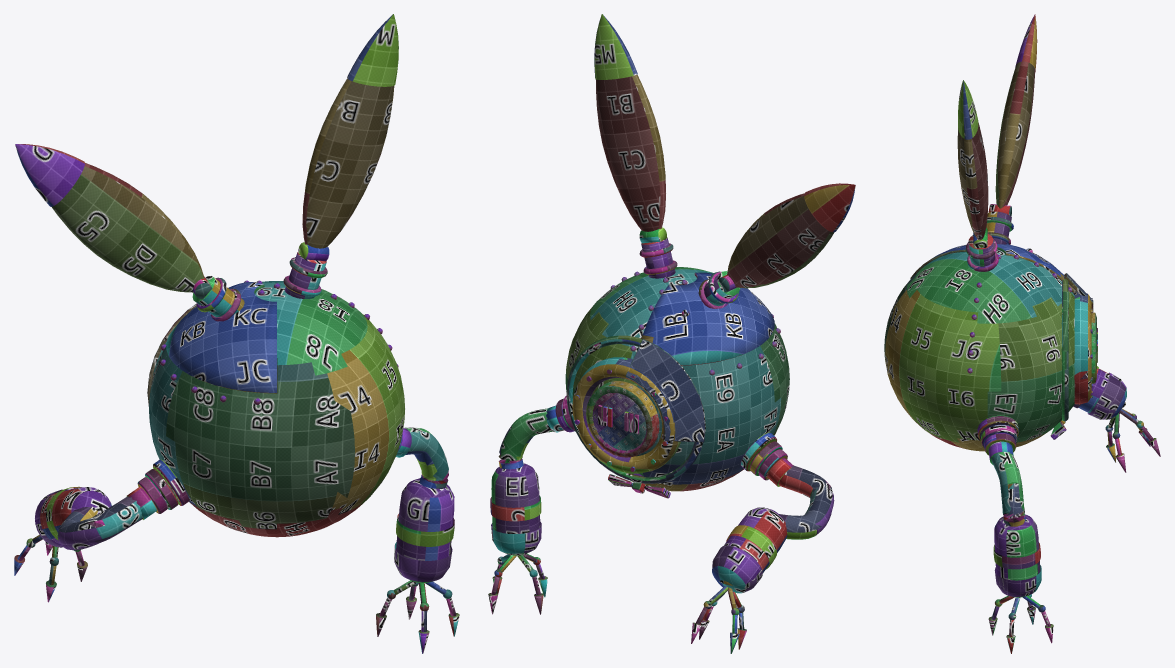
The model's file is uv_rabbit.glb.
3 views of the same model, side by side, from view 1: azimuth 30°, elevation 25°; view 2: azimuth 150°, elevation 25°; view 3: azimuth 270°, elevation 25° (orthographic). The views are drawn at different scales.
Parts seen in each view (by area): view 1: Body_Sphere, Ear_R_Paddle, Ear_L_Paddle, Panel_Blue, Pod_L, Arm_Tube_R, Ear_R_Tip, Ear_L_Tip, Arm_Tube_L, Pod_R, Pod_Cap_L, Pod_Band_L (+2 smaller); view 2: Body_Sphere, Ear_L_Paddle, Panel_Blue, Ear_R_Paddle, Brow_Plate, Porthole_Bezel, Arm_Tube_R, Pod_L, Porthole_Inner_Ring, Face_Gasket_Red, Screen_Glass, Ear_L_Tip (+8 smaller); view 3: Body_Sphere, Ear_R_Paddle, Ear_L_Paddle, Pod_L, Porthole_Bezel, Arm_Tube_L, Pod_Cap_R, Face_Gasket_Red, Panel_Blue, Ear_L_Tip, Pod_Cap_L, Ear_R_Tip (+6 smaller).
Boxes of the visible parts, x1,y1,x2,y2 form: Body_Sphere: (149, 281, 404, 537); Ear_R_Paddle: (52, 163, 204, 292); Ear_L_Paddle: (302, 78, 394, 248); Panel_Blue: (166, 282, 277, 393); Pod_L: (396, 478, 454, 560); Arm_Tube_R: (57, 496, 142, 550); Ear_R_Tip: (15, 144, 84, 206); Ear_L_Tip: (347, 14, 398, 86); Arm_Tube_L: (404, 427, 448, 488); Pod_R: (40, 487, 111, 545); Pod_Cap_L: (394, 542, 452, 582); Pod_Band_L: (396, 514, 454, 546); Body_Sphere: (565, 267, 789, 491); Ear_L_Paddle: (596, 74, 665, 231); Panel_Blue: (641, 272, 774, 365); Ear_R_Paddle: (727, 193, 834, 288); Brow_Plate: (625, 339, 705, 442); Porthole_Bezel: (572, 357, 680, 473); Arm_Tube_R: (778, 465, 834, 539); Pod_L: (491, 463, 540, 533); Porthole_Inner_Ring: (586, 381, 659, 457); Face_Gasket_Red: (566, 335, 704, 483); Screen_Glass: (592, 393, 646, 450); Ear_L_Tip: (594, 14, 637, 79); Body_Sphere: (884, 249, 1074, 451); Ear_R_Paddle: (995, 61, 1035, 208); Ear_L_Paddle: (957, 122, 988, 240); Pod_L: (994, 514, 1040, 580); Porthole_Bezel: (1074, 292, 1091, 404); Arm_Tube_L: (991, 451, 1025, 526); Pod_Cap_R: (1087, 372, 1126, 419); Face_Gasket_Red: (1061, 275, 1068, 421); Panel_Blue: (910, 244, 1076, 294); Ear_L_Tip: (958, 80, 978, 139); Pod_Cap_L: (994, 565, 1041, 597); Ear_R_Tip: (1015, 14, 1037, 72).
Bounding box in the file's own units: 1.08 × 1.61 × 0.7478.
1 material, 1 textured.
